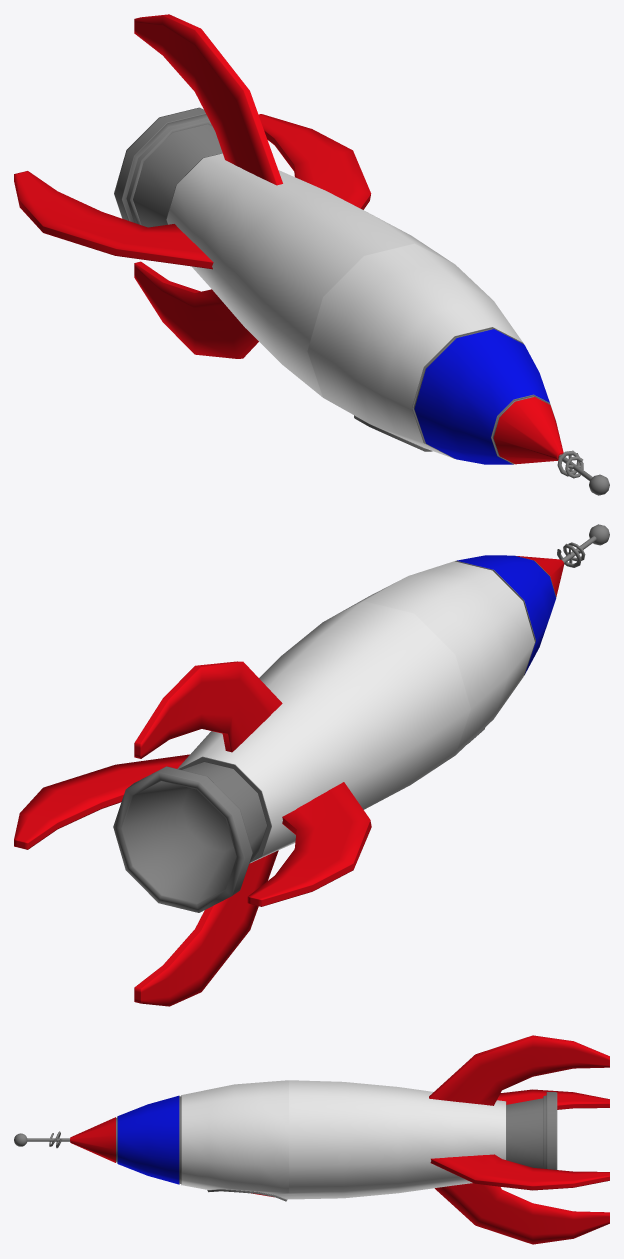
Rendered from Missile.fbx.
3 renders of one model, top to bottom at view 1: azimuth 30°, elevation 25°; view 2: azimuth 150°, elevation 25°; view 3: azimuth 270°, elevation 25°, orthographic. The views are drawn at different scales.
Parts seen in each view (by area): view 1: scifi_cartoon_rocket; view 2: scifi_cartoon_rocket; view 3: scifi_cartoon_rocket.
Part boxes in pixels (<box>): scifi_cartoon_rocket: <box>14,14,609,495</box>; scifi_cartoon_rocket: <box>14,524,609,1006</box>; scifi_cartoon_rocket: <box>14,1035,609,1244</box>.
Size of the model in its own units: 528 by 528 by 1376.
